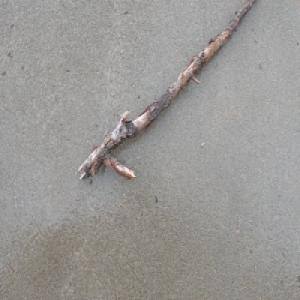Wood: (77, 0, 257, 183)
